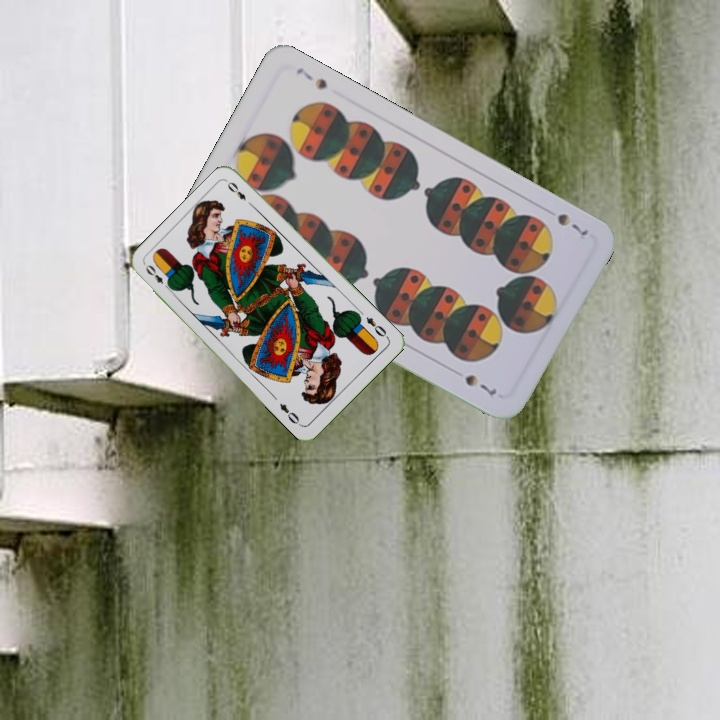EO: (141, 261, 174, 293), (362, 313, 391, 341)
S7: (553, 209, 592, 239)
